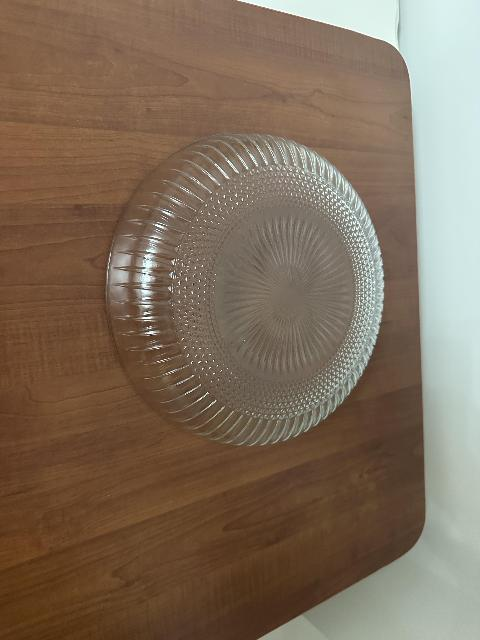Cam: (103, 130, 395, 443)
